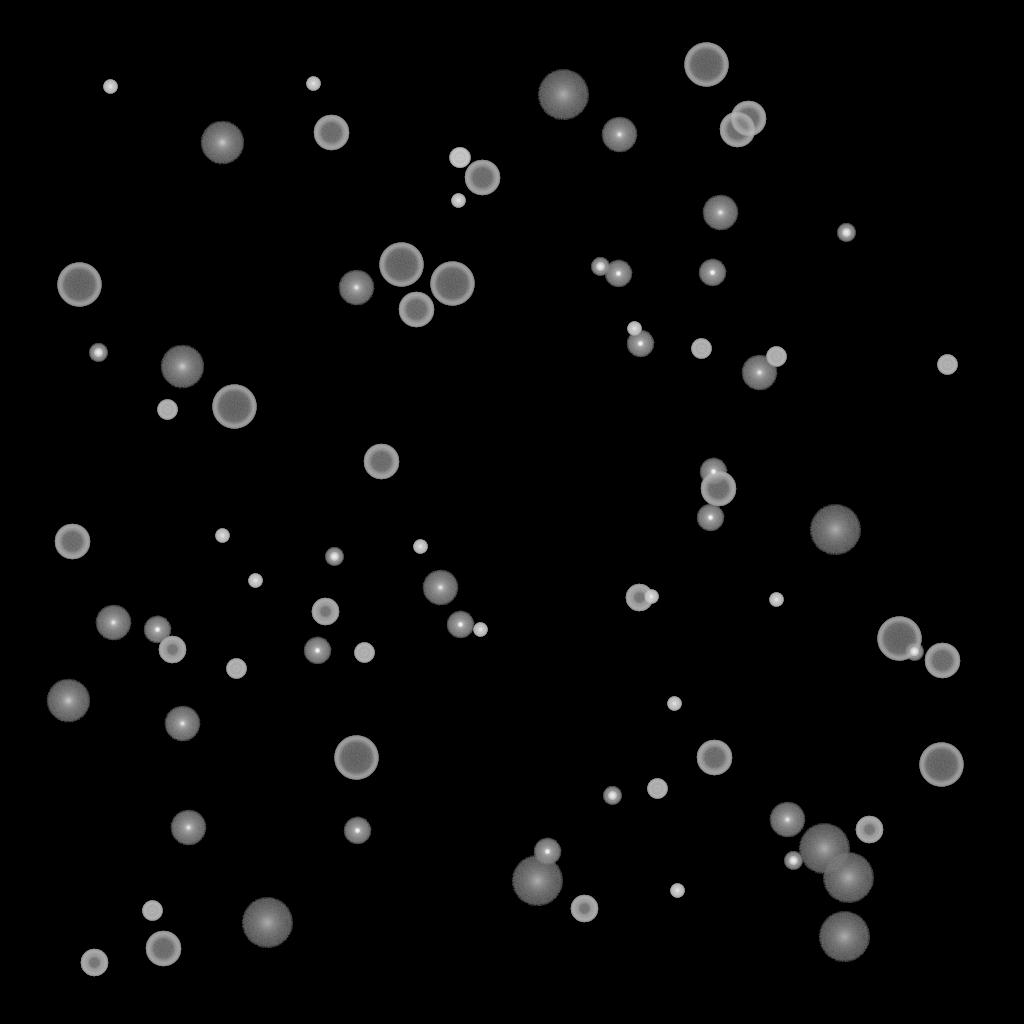depth:-10: (604, 260, 632, 288), (699, 458, 727, 486), (343, 817, 371, 845), (446, 611, 474, 639), (303, 637, 331, 665), (696, 504, 724, 532), (143, 616, 171, 644), (698, 259, 726, 287), (533, 838, 561, 866), (626, 330, 654, 358)
depth:-20: (325, 548, 343, 566), (837, 224, 855, 242), (905, 643, 923, 661), (784, 852, 802, 870), (89, 344, 107, 362), (591, 258, 609, 276), (603, 787, 621, 805)
depth:-30: (103, 80, 117, 94), (667, 697, 681, 711), (644, 590, 658, 604), (769, 593, 783, 607), (451, 194, 465, 208), (306, 77, 320, 91), (215, 529, 229, 543), (248, 574, 262, 588), (473, 623, 487, 637), (627, 322, 641, 336), (413, 540, 427, 554), (670, 884, 684, 898)
depth:-40: (937, 355, 957, 375), (691, 339, 711, 359), (766, 347, 786, 367), (450, 148, 470, 168), (142, 901, 162, 921), (354, 643, 374, 663), (449, 148, 469, 168), (647, 779, 667, 799), (226, 659, 246, 679), (157, 400, 177, 420)
depth:-50: (625, 584, 653, 612), (570, 895, 598, 923), (158, 636, 186, 664), (80, 949, 108, 977), (311, 598, 339, 626), (855, 816, 883, 844)
depth:-60: (696, 740, 732, 776), (924, 643, 960, 679), (313, 115, 349, 151), (54, 524, 90, 560), (700, 471, 736, 507), (464, 160, 500, 196), (719, 112, 755, 148), (145, 931, 181, 967), (398, 292, 434, 328), (730, 101, 766, 137), (363, 444, 399, 480)
depth:-70: (877, 617, 921, 661), (684, 43, 728, 87), (919, 743, 963, 787), (334, 736, 378, 780), (57, 263, 101, 307), (212, 385, 256, 429), (430, 262, 474, 306), (379, 243, 423, 287)
depth:0: (769, 802, 805, 838), (164, 706, 200, 742), (741, 355, 777, 391), (702, 195, 738, 231), (338, 270, 374, 306), (422, 570, 458, 606), (95, 605, 131, 641), (601, 117, 637, 153), (170, 810, 206, 846)
depth:10: (46, 679, 90, 723), (200, 121, 244, 165), (160, 345, 204, 389)
depth:20: (822, 853, 874, 903), (798, 824, 850, 874), (809, 505, 861, 555), (511, 856, 563, 906), (818, 912, 870, 962), (241, 898, 293, 948), (537, 70, 589, 120)
